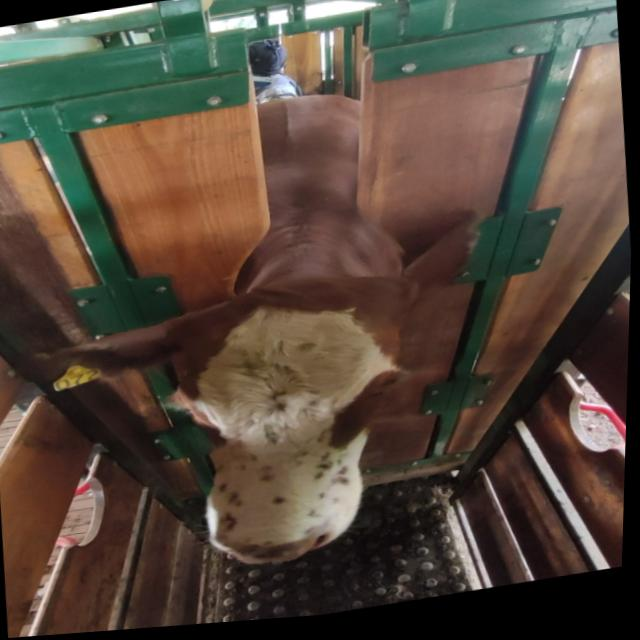cowFace: (162, 271, 420, 580)
